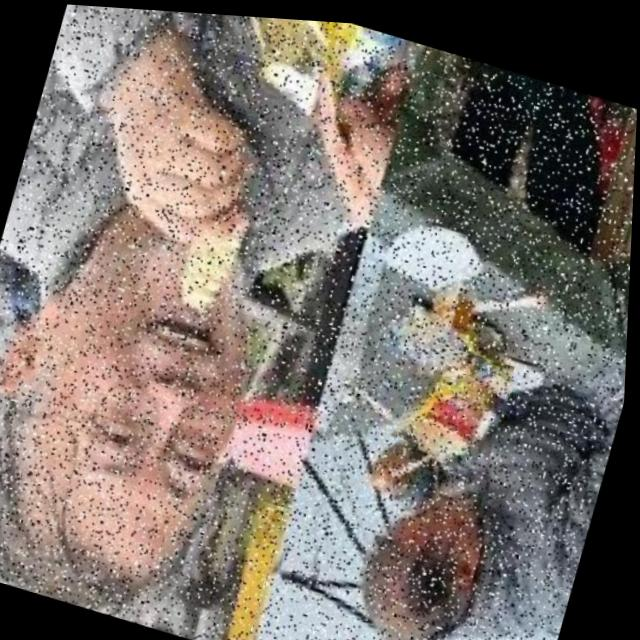Miscellaneous: (393, 331, 518, 472)
